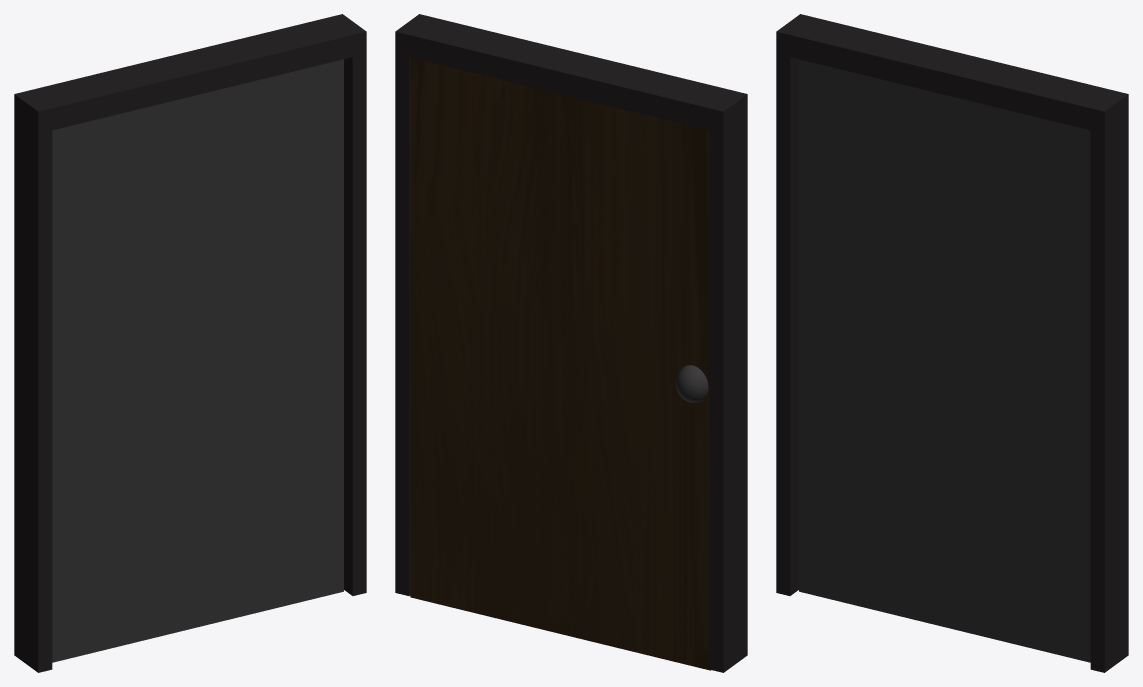
File: doorsecond.fbx
3 views of the same model, side by side, from view 1: azimuth 30°, elevation 25°; view 2: azimuth 150°, elevation 25°; view 3: azimuth 330°, elevation 25° (orthographic).
Parts seen in each view (by area): view 1: Cube.003, Cube.002; view 2: Cube.003, Cube.002; view 3: Cube.003, Cube.002.
Part boxes in pixels (x1,y1,x2,y2): Cube.003: (52,59,343,662); Cube.002: (14,14,366,672); Cube.003: (410,57,711,670); Cube.002: (395,14,747,672); Cube.003: (799,59,1090,662); Cube.002: (776,14,1128,672).
Bounding box in the file's own units: 163 × 268 × 27.04.
Materials: 3 (1 with a texture image).
